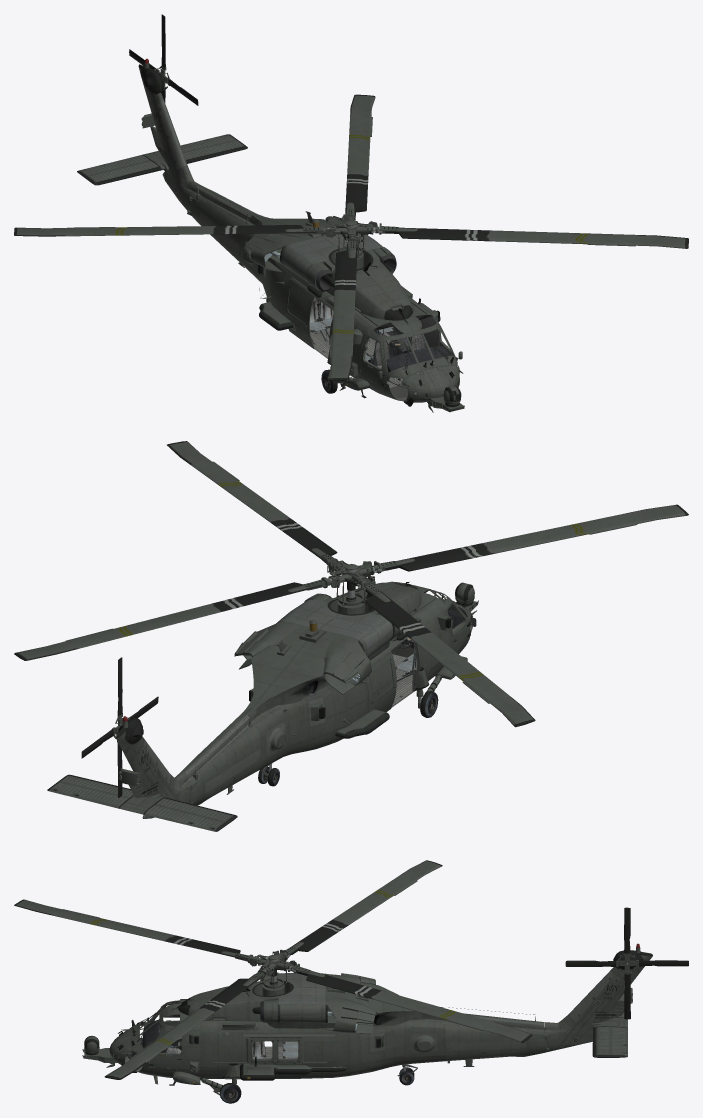
The model's file is seahawk.glb.
3 renders of one model, top to bottom at view 1: azimuth 30°, elevation 25°; view 2: azimuth 150°, elevation 25°; view 3: azimuth 270°, elevation 25°, orthographic. The views are drawn at different scales.
Parts seen in each view (by area): view 1: object 3, ROTOR, object 2, object 1, TAILROTOR; view 2: object 3, ROTOR, object 1, TAILROTOR, object 2; view 3: object 3, ROTOR, TAILROTOR, object 2, object 1.
Part boxes in pixels (x1,y1,x2,y2): object 3: (77, 58, 464, 412); ROTOR: (14, 94, 688, 380); object 2: (309, 297, 449, 384); object 1: (309, 298, 459, 400); TAILROTOR: (129, 14, 181, 102); object 3: (47, 578, 478, 831); ROTOR: (14, 441, 688, 727); object 1: (387, 581, 472, 706); TAILROTOR: (81, 657, 140, 804); object 2: (393, 601, 463, 702); object 3: (82, 943, 652, 1103); ROTOR: (14, 860, 567, 1079); TAILROTOR: (592, 907, 688, 1028); object 2: (126, 1020, 298, 1066); object 1: (124, 1000, 298, 1071).
Bounding box in the file's own units: 15.23 × 5.83 × 19.8.
Materials: 3 (3 with a texture image).
